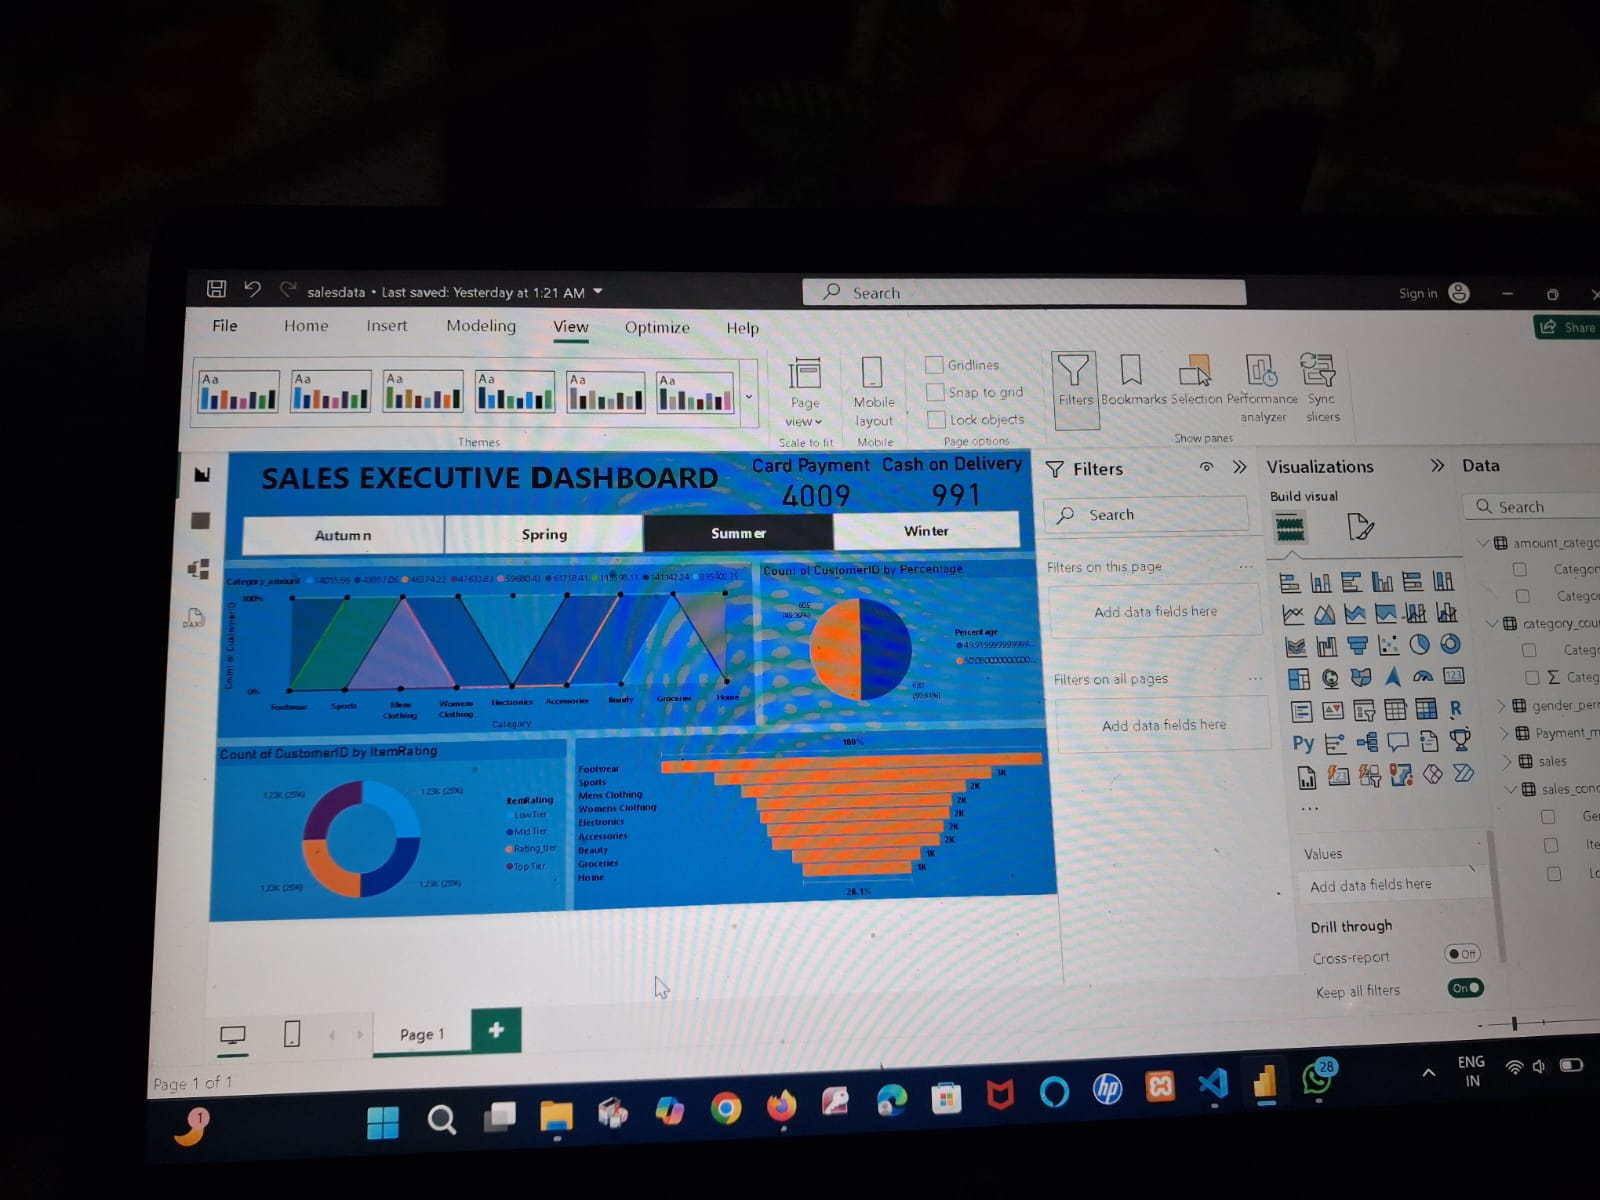

The page's visual inventory and layout, read from the dashboard file:
{"tool":"powerbi","page":{"name":"Page 1","canvas":[1280,720],"ordinal":0},"visuals":[{"type":"pieChart","fields":{"Category":["gender_percentage.Percentage"],"Y":["CountNonNull(sales.CustomerID)"]},"box":[865.5,41.6,413.9,317.5],"z":0},{"type":"donutChart","fields":{"Series":["sales_concat.Column2"],"Y":["CountNonNull(sales.CustomerID)"]},"box":[1.9,457.3,519.7,262.7],"z":3},{"type":"slicer","fields":{"Values":["sales.Season"]},"box":[1.9,0,850.4,68],"z":4},{"type":"cardVisual","fields":{"Rows":["Payment_method.Count"],"Data":["Min(Payment_method.PaymentMethod)"]},"box":[708.7,463,570.7,257],"z":5}]}

Visuals, with their boxes on the page's 1280x720 design canvas (x1, y1, x2, y2). These are canvas units, not pixel positions in the 1600x1200 screenshot, which may show the page scaled, cropped or inside an application window:
pieChart - gender_percentage.Percentage x CountNonNull(sales.CustomerID): {"x1": 866, "y1": 42, "x2": 1279, "y2": 359}
donutChart - sales_concat.Column2 x CountNonNull(sales.CustomerID): {"x1": 2, "y1": 457, "x2": 522, "y2": 720}
slicer - sales.Season: {"x1": 2, "y1": 0, "x2": 852, "y2": 68}
cardVisual - Payment_method.Count x Min(Payment_method.PaymentMethod): {"x1": 709, "y1": 463, "x2": 1279, "y2": 720}
